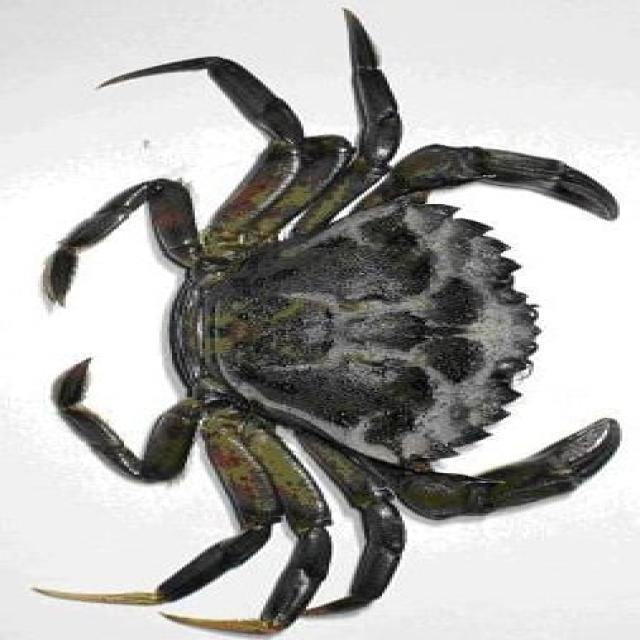egc: (38, 11, 617, 632)
